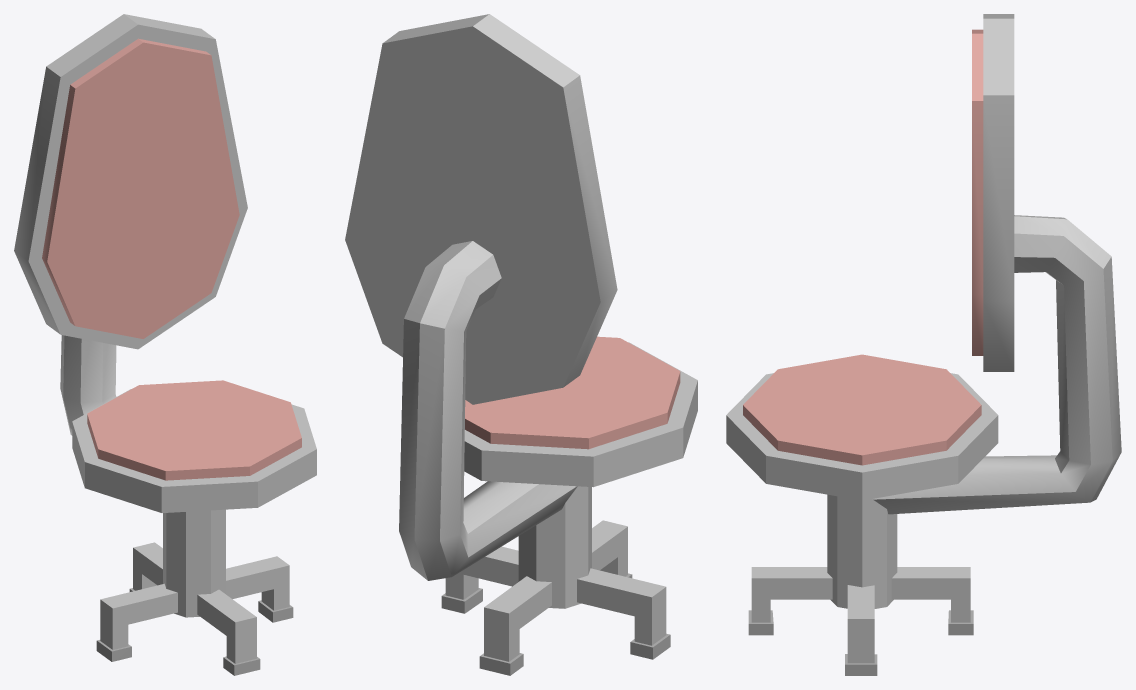
File: Office Chair UV.fbx
3 views of the same model, side by side, from view 1: azimuth 30°, elevation 25°; view 2: azimuth 150°, elevation 25°; view 3: azimuth 270°, elevation 25° (orthographic). The views are drawn at different scales.
Visible parts, largest first — view 1: Cube_2; view 2: Cube_2; view 3: Cube_2.
Part boxes in pixels (<box>): Cube_2: <box>14,14,316,675</box>; Cube_2: <box>345,14,697,675</box>; Cube_2: <box>726,14,1121,675</box>.
Bounding box in the file's own units: 23.27 × 57.59 × 33.84.
